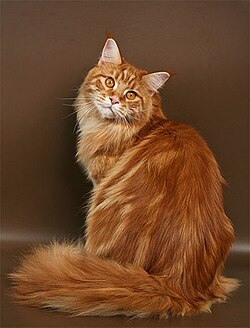cat: (32, 37, 237, 328)
